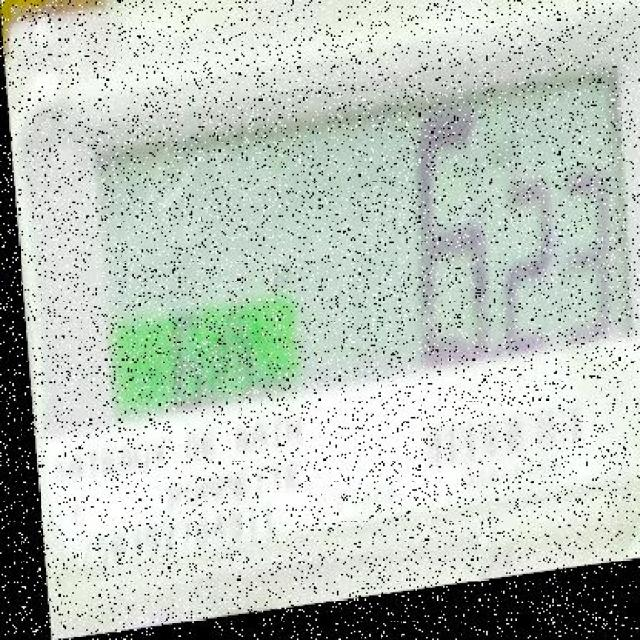display: (102, 71, 626, 412)
frame: (392, 103, 618, 374)
gauge: (1, 0, 638, 640)
